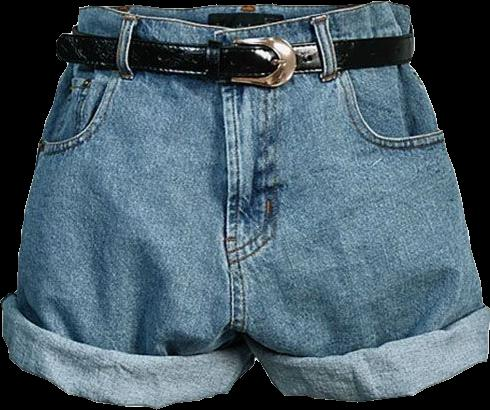Hemline: (7, 354, 233, 409), (282, 357, 488, 403)
Pantleg: (219, 1, 489, 402), (1, 5, 256, 407)
Waistline: (80, 1, 405, 31), (65, 58, 409, 75)
